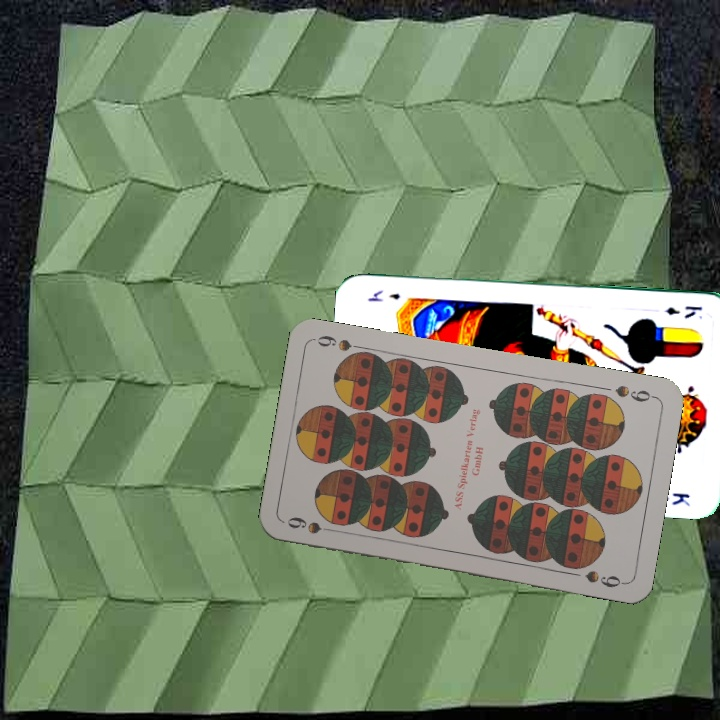EK: (662, 302, 705, 321)
S9: (283, 513, 341, 537), (611, 381, 658, 405)
